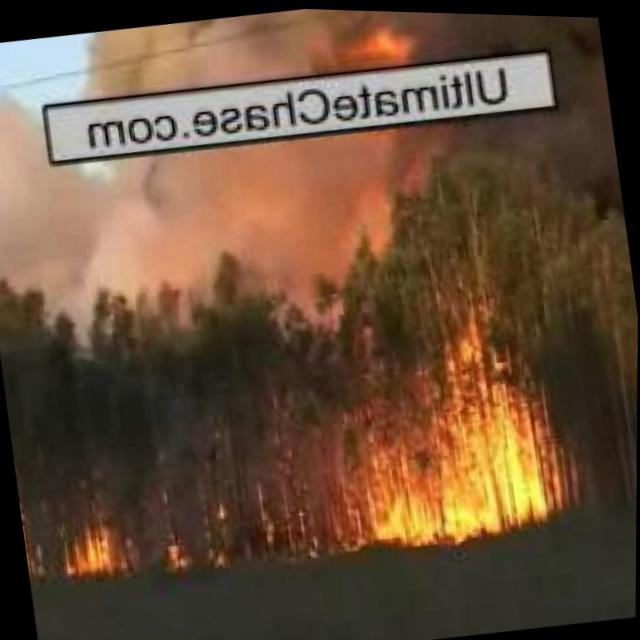Fire: (332, 301, 567, 552), (195, 434, 331, 572), (62, 527, 129, 576), (352, 25, 418, 64), (21, 515, 46, 575), (156, 546, 191, 573)
